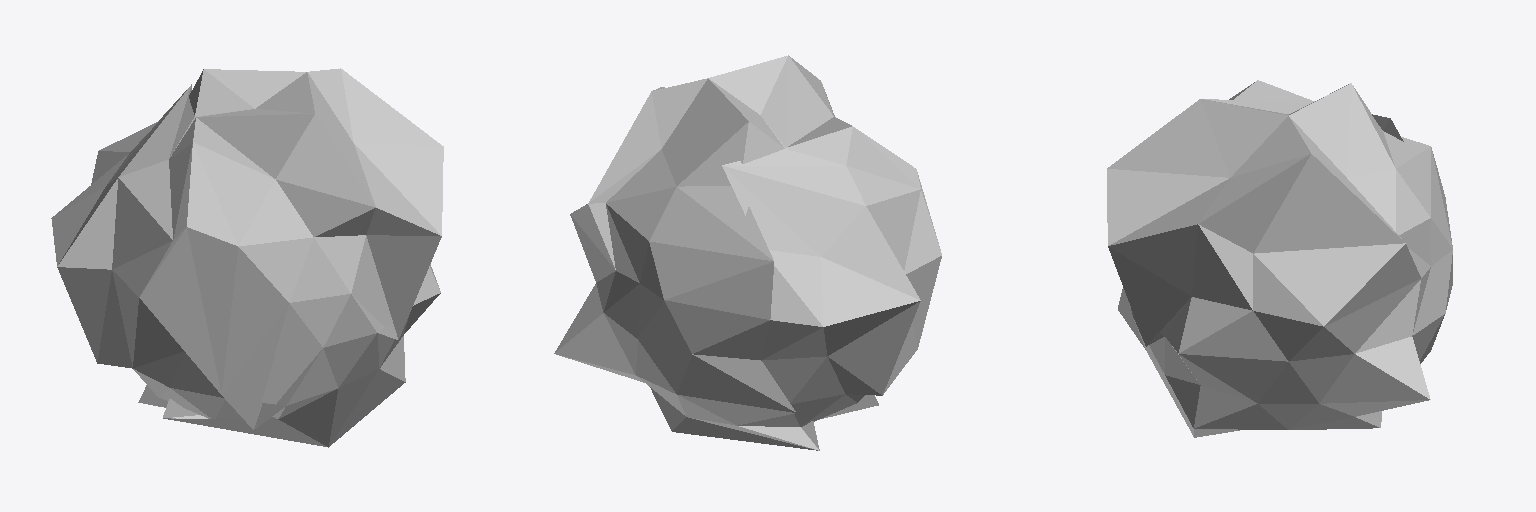
Rendered from stone.obj.
3 renders of one model, left to right at view 1: azimuth 30°, elevation 25°; view 2: azimuth 150°, elevation 25°; view 3: azimuth 270°, elevation 25°, orthographic.
Visible parts, largest first — view 1: GeoSphere002; view 2: GeoSphere002; view 3: GeoSphere002.
Part boxes in pixels (x1,y1,x2,y2): GeoSphere002: (51, 68, 443, 447); GeoSphere002: (554, 55, 941, 450); GeoSphere002: (1107, 80, 1452, 437).
Size of the model in its own units: 2.43 by 2.21 by 2.07.